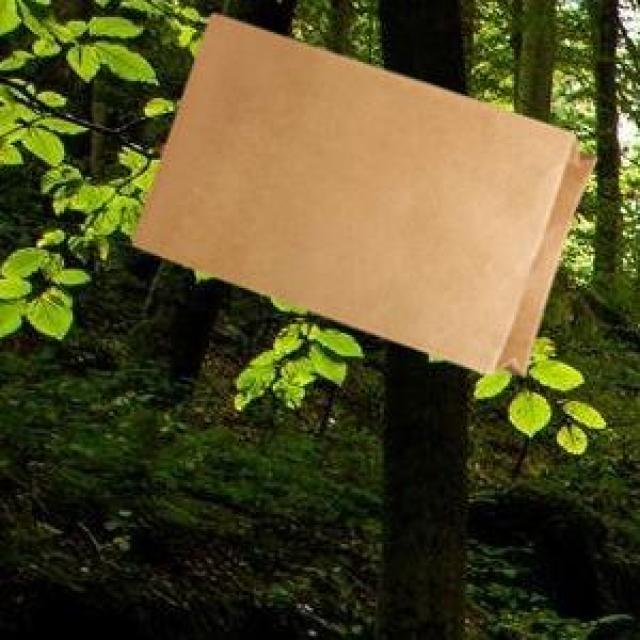PaperCardboard: (133, 11, 599, 372)
